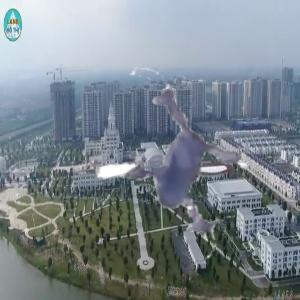drone: (31, 46, 267, 282)
